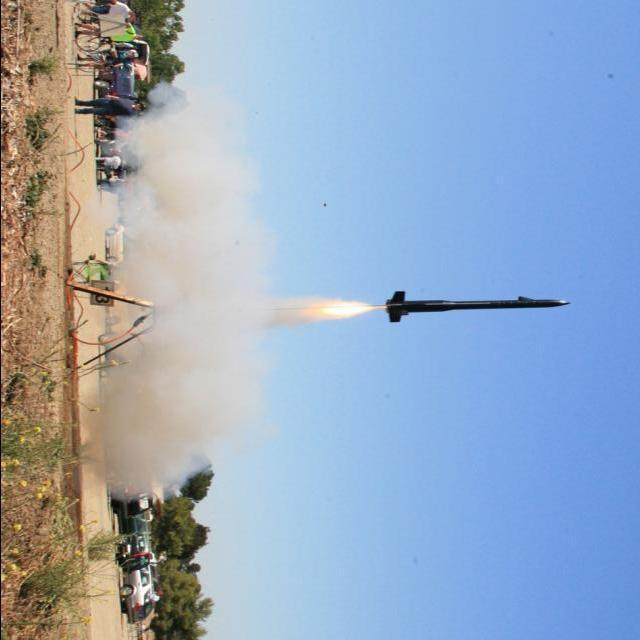missile: (384, 281, 569, 323)
